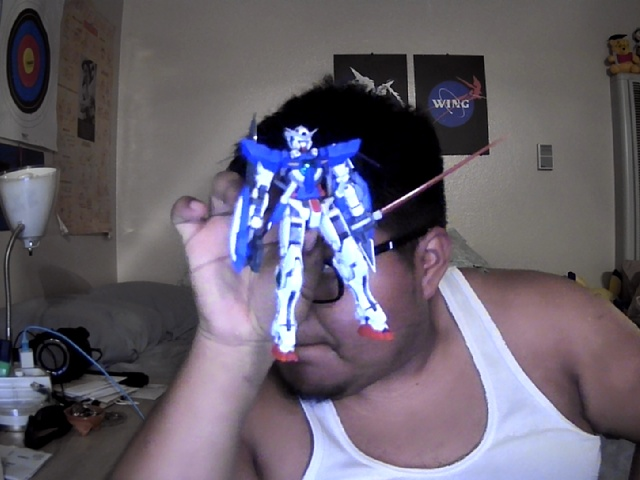Exia: (229, 113, 502, 359)
